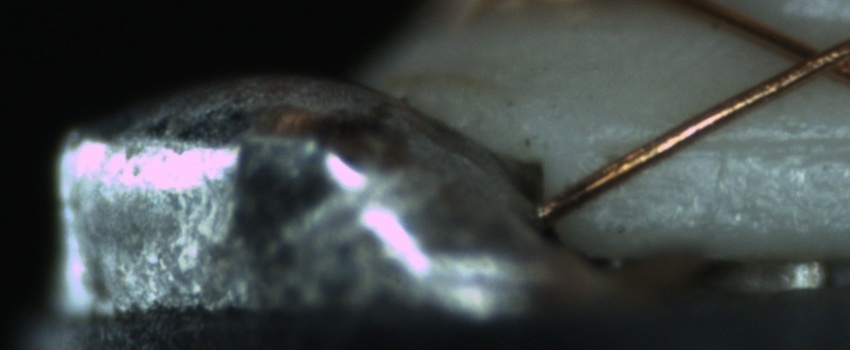CL: (772, 28, 847, 87)
DL: (613, 107, 844, 176)
